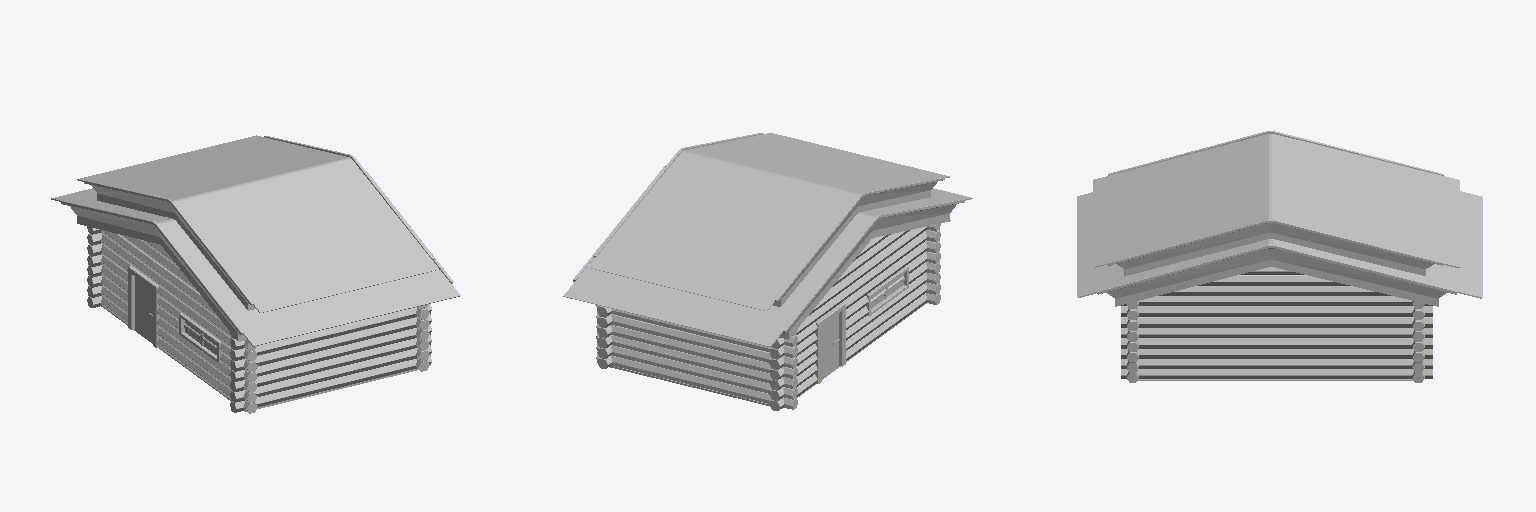
The model's file is Cottage_test02.obj.
3 renders of one model, left to right at view 1: azimuth 30°, elevation 25°; view 2: azimuth 150°, elevation 25°; view 3: azimuth 270°, elevation 25°, orthographic.
Parts seen in each view (by area): view 1: Cottage_test2; view 2: Cottage_test2; view 3: Cottage_test2.
Boxes of the visible parts, x1=… form: Cottage_test2: x1=51, y1=135, x2=460, y2=413; Cottage_test2: x1=563, y1=133, x2=972, y2=410; Cottage_test2: x1=1077, y1=131, x2=1482, y2=382.
Bounding box in the file's own units: 618 × 449 × 1021.